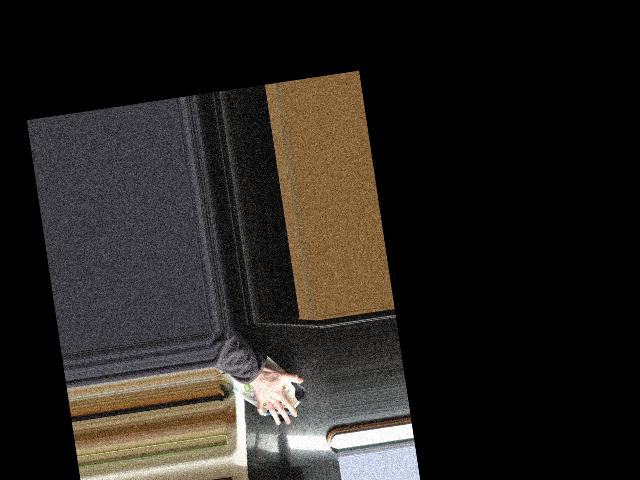cheese: (225, 346, 311, 431)
